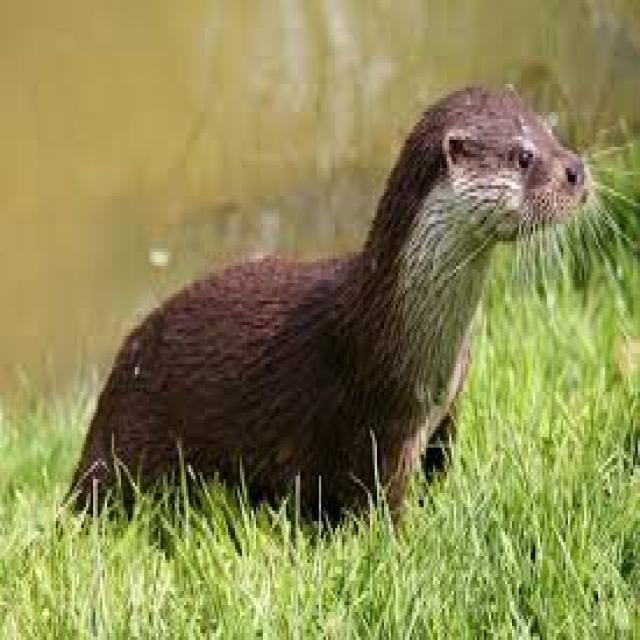Otter: (61, 72, 594, 520)
